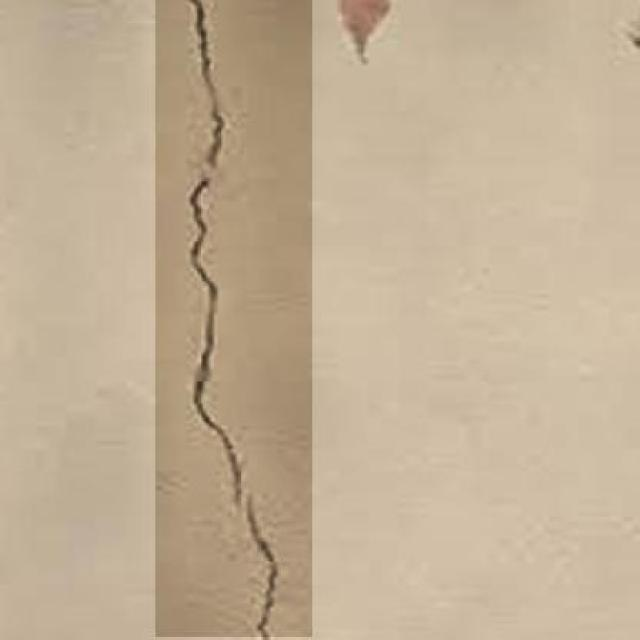Crack: (154, 0, 281, 639)
